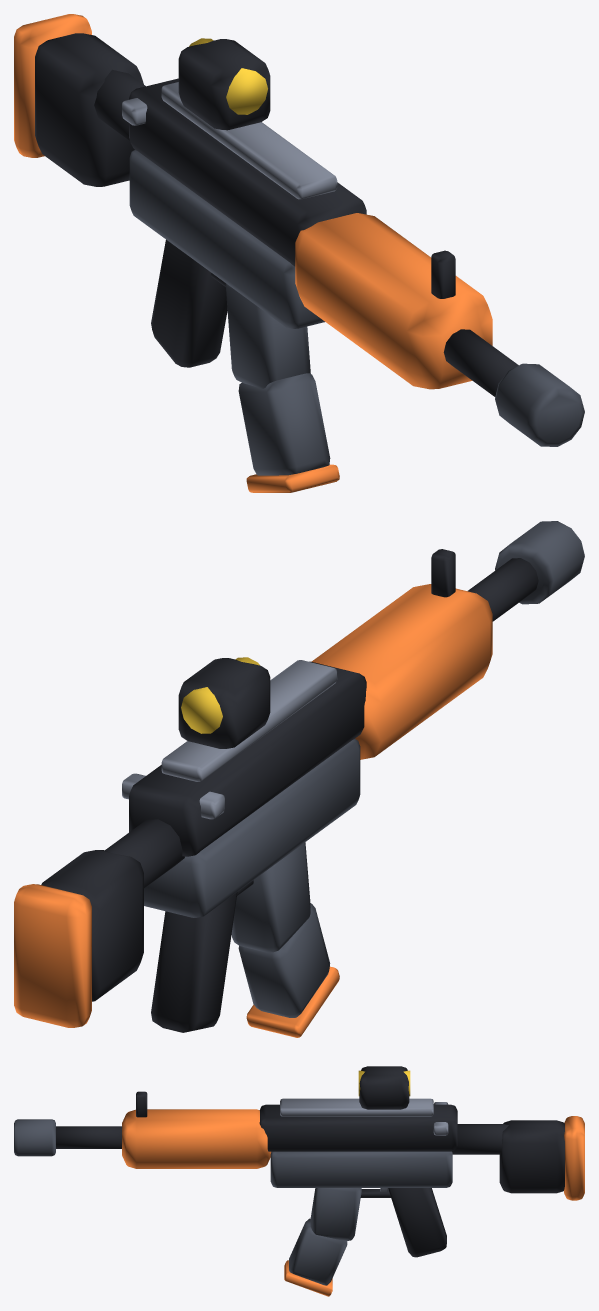
Rendered from rifle.glb.
The picture shows the model from 3 angles, top to bottom: view 1: azimuth 30°, elevation 25°; view 2: azimuth 150°, elevation 25°; view 3: azimuth 270°, elevation 25°; orthographic projection. The views are drawn at different scales.
Parts seen in each view (by area): view 1: Rifle, Mag; view 2: Rifle, Mag; view 3: Rifle, Mag.
Boxes of the visible parts, x1,y1,x2,y2 form: Rifle: [14, 14, 584, 446]; Mag: [225, 283, 339, 492]; Rifle: [14, 521, 584, 1032]; Mag: [231, 842, 339, 1037]; Rifle: [14, 1066, 584, 1257]; Mag: [284, 1188, 361, 1296].
Bounding box in the file's own units: 0.074 × 0.2991 × 0.706.
1 material, 1 textured.
